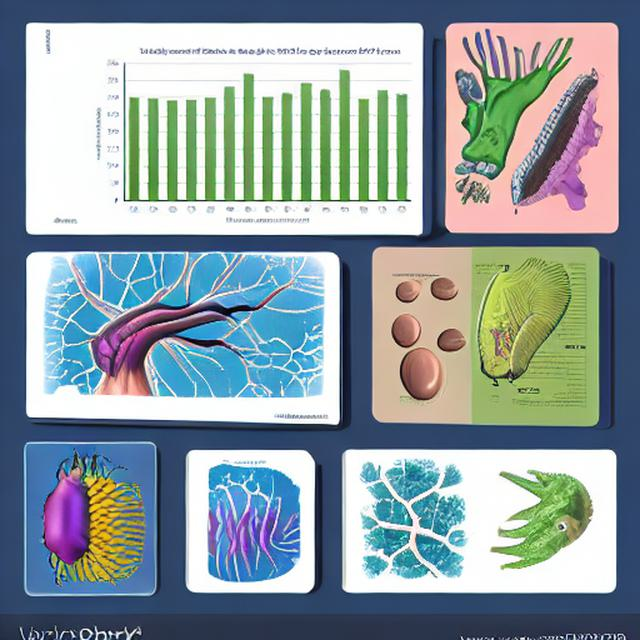Graph: (86, 37, 418, 233)
